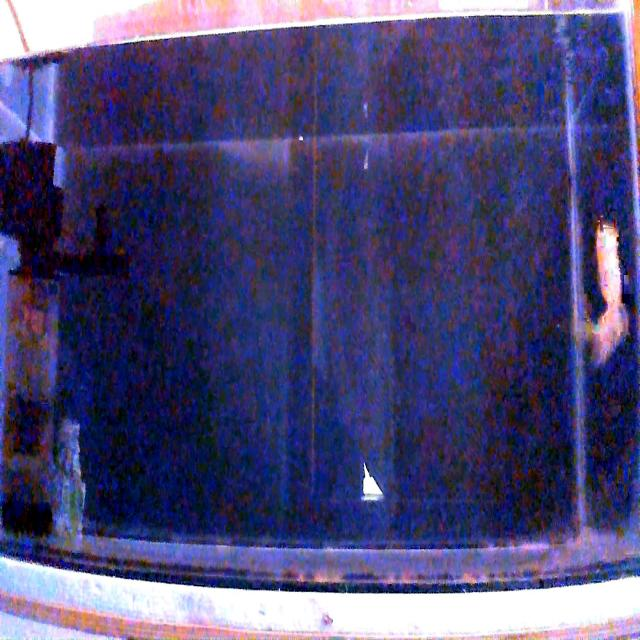fish: (583, 220, 628, 360)
